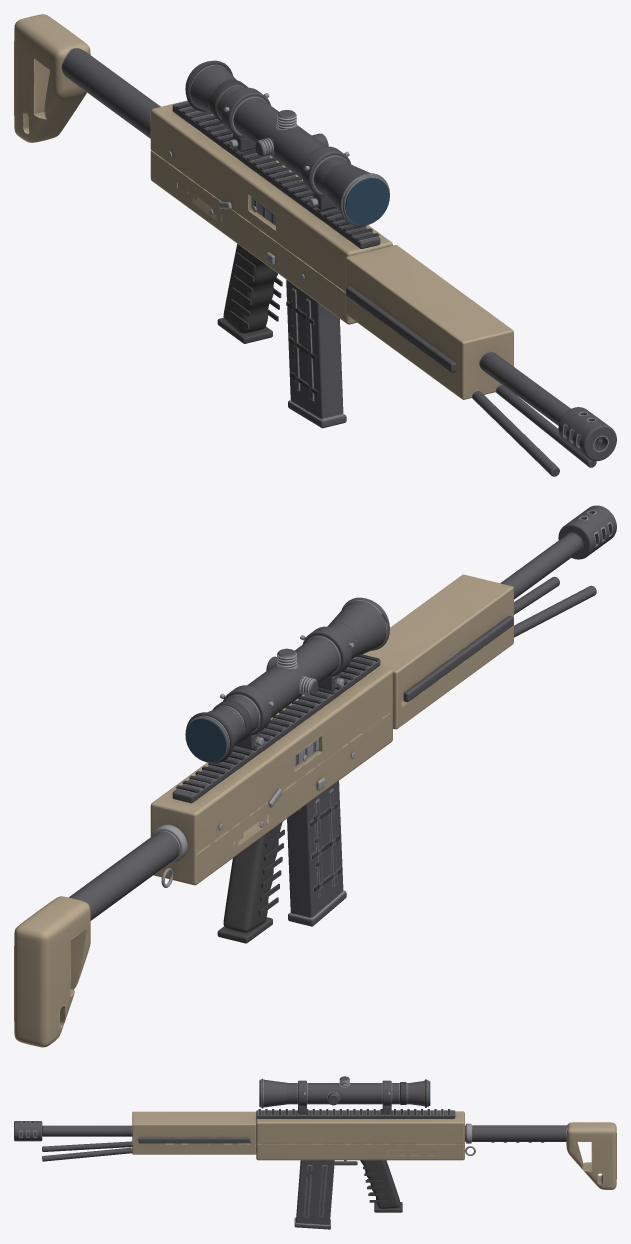
The model's file is scar20.fbx.
3 renders of one model, top to bottom at view 1: azimuth 30°, elevation 25°; view 2: azimuth 150°, elevation 25°; view 3: azimuth 270°, elevation 25°, orthographic. The views are drawn at different scales.
Visible parts, largest first — view 1: scar20; view 2: scar20; view 3: scar20.
Boxes of the visible parts, box(x1,y1,x2,y2) form: scar20: box(14, 14, 616, 476); scar20: box(14, 505, 616, 1047); scar20: box(14, 1076, 616, 1229).
Size of the model in its own units: 0.068 by 0.2909 by 1.07.
